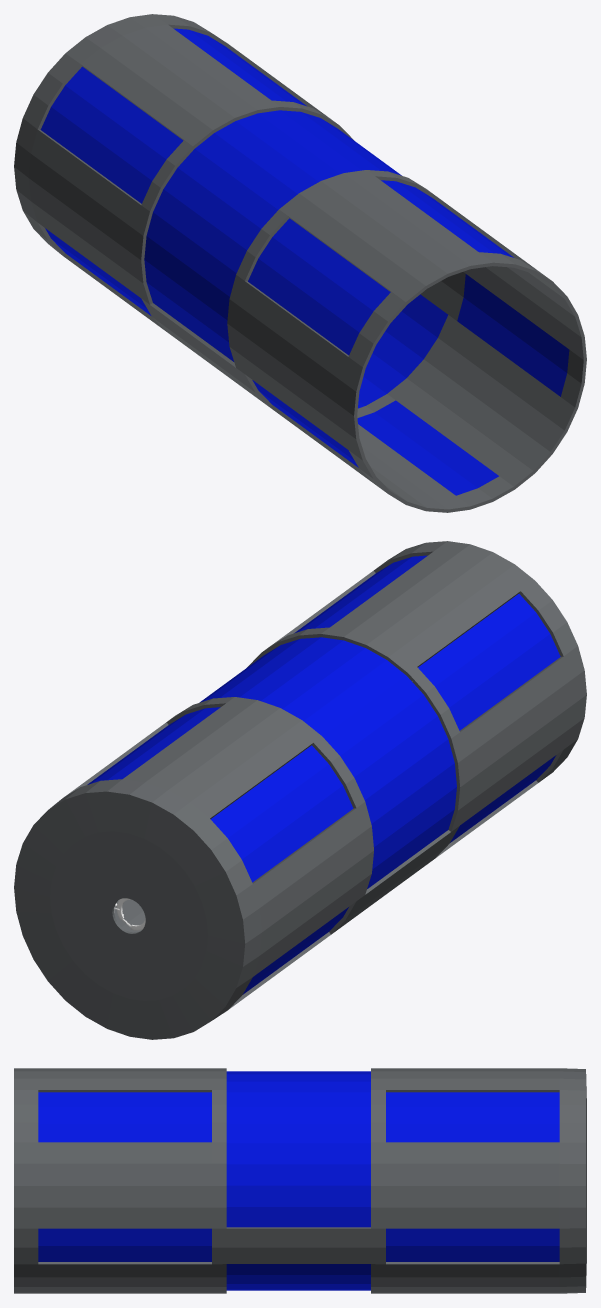
The model's file is Nave_OK.fbx.
3 renders of one model, top to bottom at view 1: azimuth 30°, elevation 25°; view 2: azimuth 150°, elevation 25°; view 3: azimuth 270°, elevation 25°, orthographic. The views are drawn at different scales.
Parts seen in each view (by area): view 1: Techo, CriotalesTecho; view 2: Techo, CriotalesTecho; view 3: Techo, CriotalesTecho.
Part boxes in pixels (box(x1,y1,x2,y2)): Techo: box(14, 14, 586, 512); CriotalesTecho: box(40, 28, 569, 495); Techo: box(14, 541, 586, 1039); CriotalesTecho: box(87, 555, 560, 994); Techo: box(14, 1068, 586, 1293); CriotalesTecho: box(38, 1071, 559, 1290).
Bounding box in the file's own units: 31482 × 31482 × 79927.
